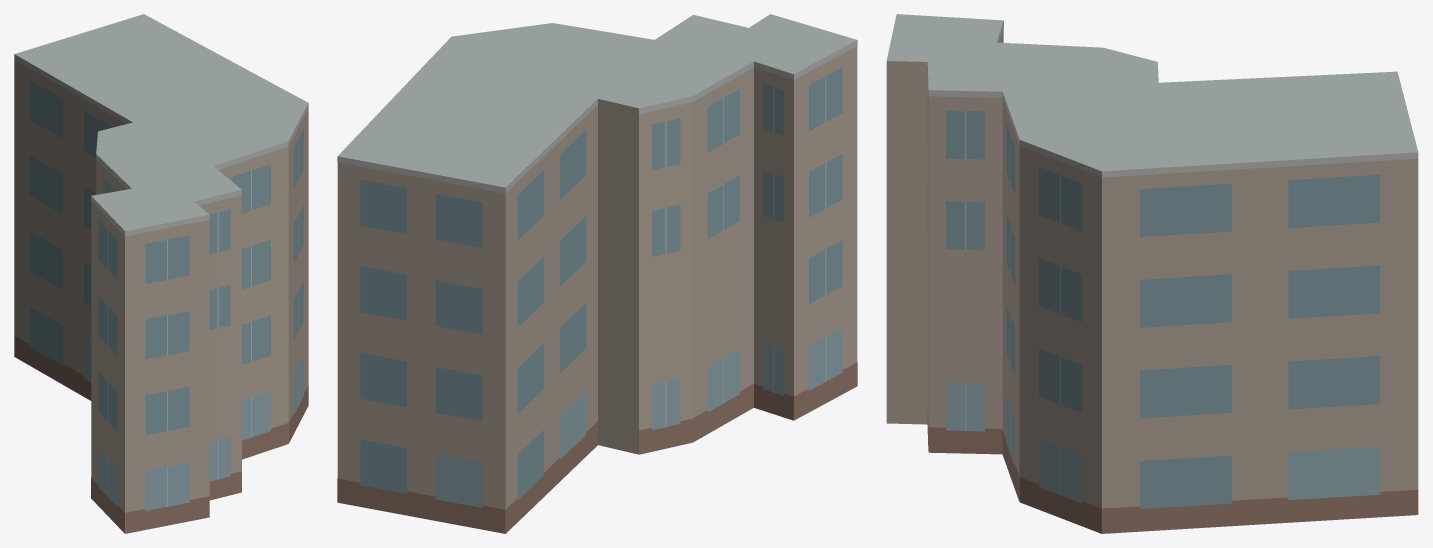
The model's file is survey-upis-32801008.glb.
3 views of the same model, side by side, from view 1: azimuth 30°, elevation 25°; view 2: azimuth 150°, elevation 25°; view 3: azimuth 270°, elevation 25° (orthographic). The views are drawn at different scales.
Parts seen in each view (by area): view 1: survey-upis-32801008.tmp; view 2: survey-upis-32801008.tmp; view 3: survey-upis-32801008.tmp.
Part boxes in pixels (x1,y1,x2,y2): survey-upis-32801008.tmp: [14, 14, 308, 533]; survey-upis-32801008.tmp: [337, 14, 857, 533]; survey-upis-32801008.tmp: [886, 14, 1418, 533].
Bounding box in the file's own units: 13.19 × 14.16 × 18.84.
